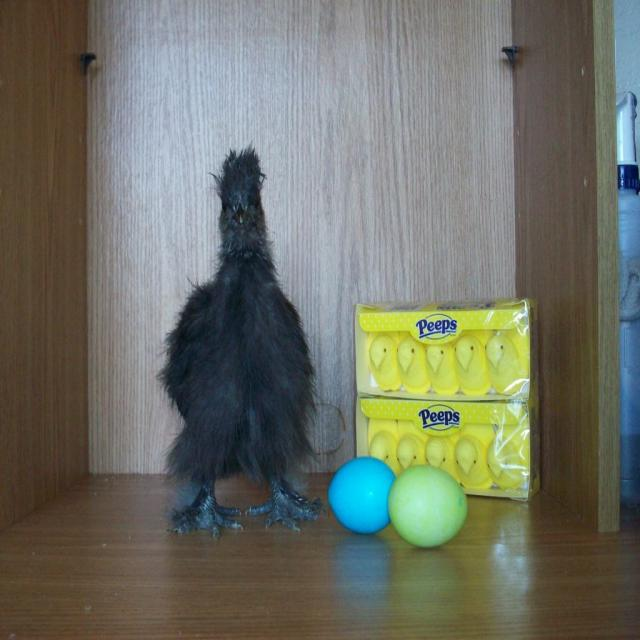Chicken: (157, 149, 240, 548)
